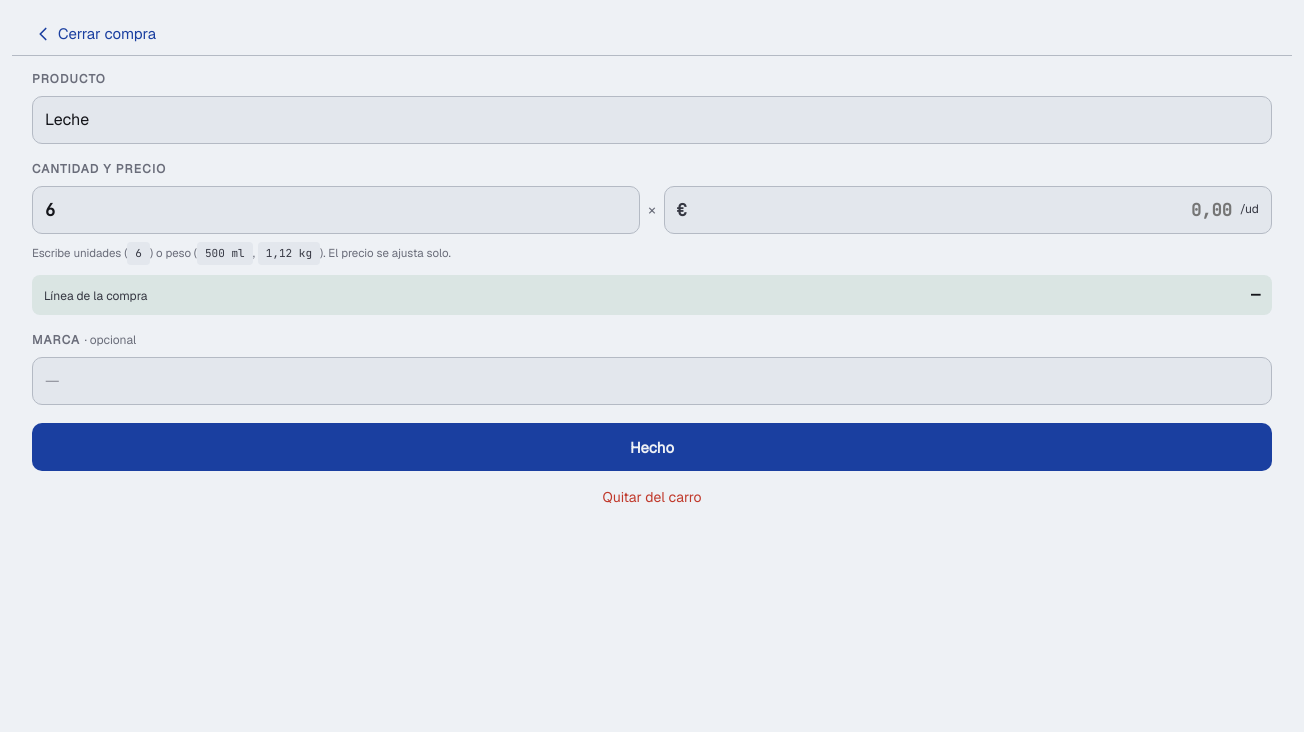
Test: the line total is quantity × price
This screenshot has width=1304, height=732.
Type "1,15" into the field with placeholder "0,00".
click(963, 210); type("1,15")  # box [693,198,1234,222]
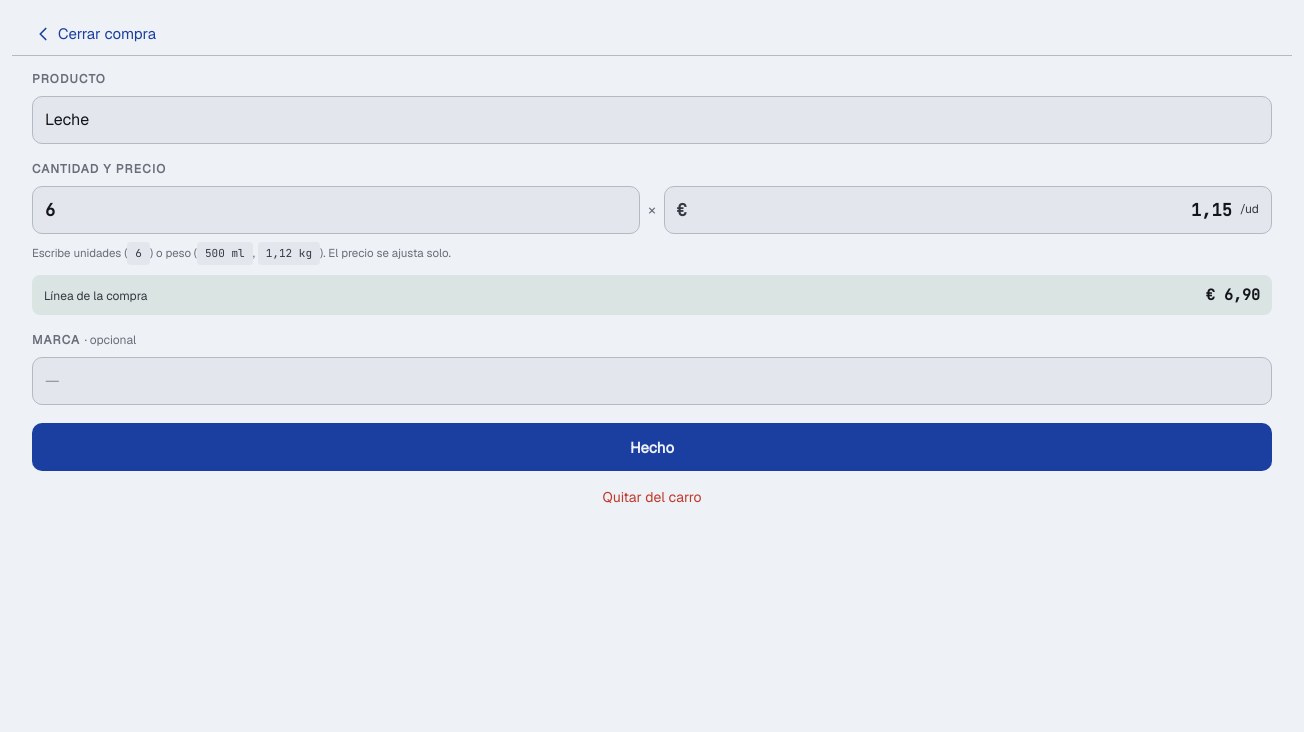
Expected: the text "€ 6,90" is shown, [1206,284,1260,306]
